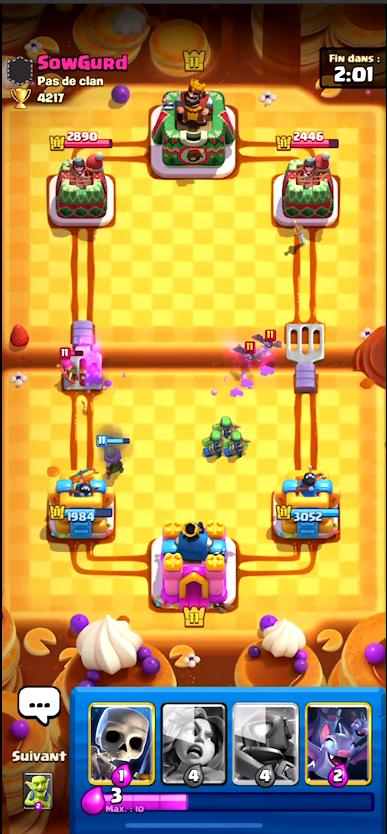archere: (58, 347, 83, 393)
bat: (231, 342, 269, 365), (253, 328, 282, 353)
gobelin_lances: (205, 429, 225, 459), (226, 428, 246, 456), (216, 413, 236, 433)
mousquetaire: (95, 433, 131, 475)
